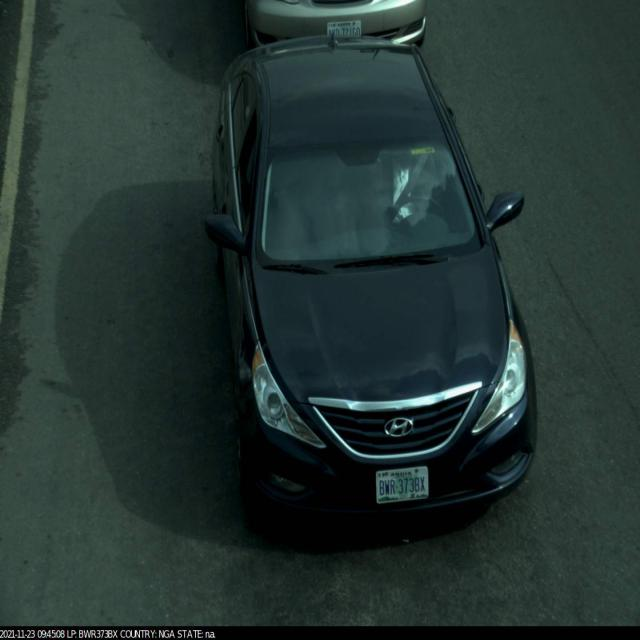windshield: (253, 129, 494, 277)
